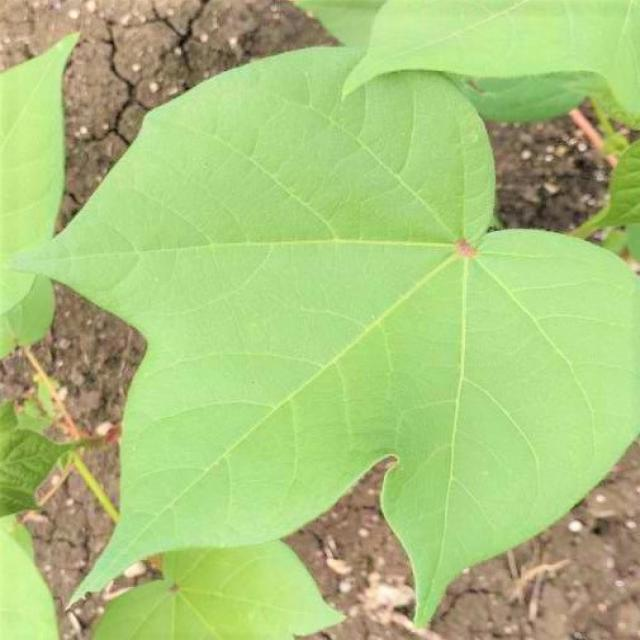Healthy Leaf: (34, 70, 608, 546)
